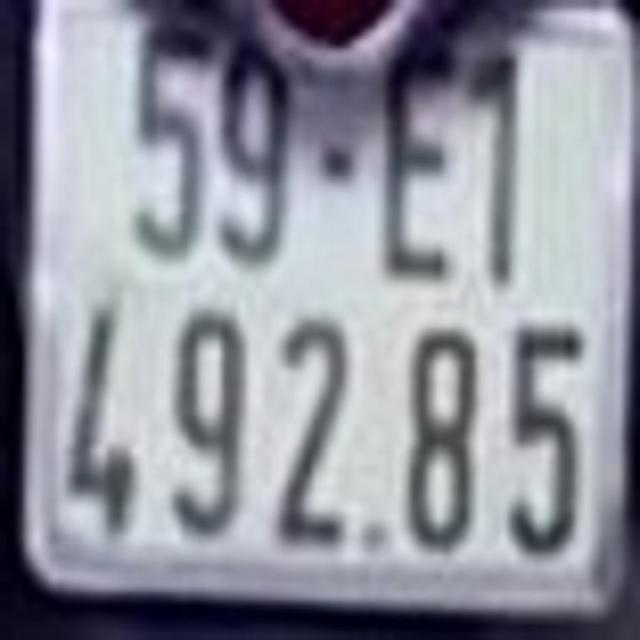1: (466, 44, 523, 286)
2: (268, 308, 350, 544)
4: (59, 298, 139, 543)
5: (504, 314, 586, 553), (129, 26, 210, 257)
8: (404, 316, 481, 554)
9: (169, 298, 247, 536), (216, 38, 294, 260)
E: (380, 34, 460, 279)
